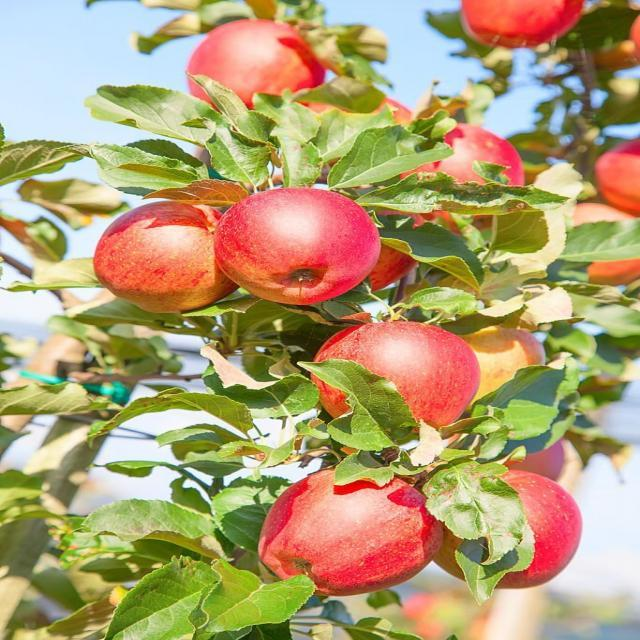Red Apple: (271, 472, 438, 580), (310, 329, 481, 431), (221, 195, 385, 293), (442, 470, 572, 580), (102, 206, 250, 302), (192, 20, 328, 111), (412, 128, 520, 202), (456, 326, 553, 391), (461, 1, 586, 49), (601, 143, 640, 209)
